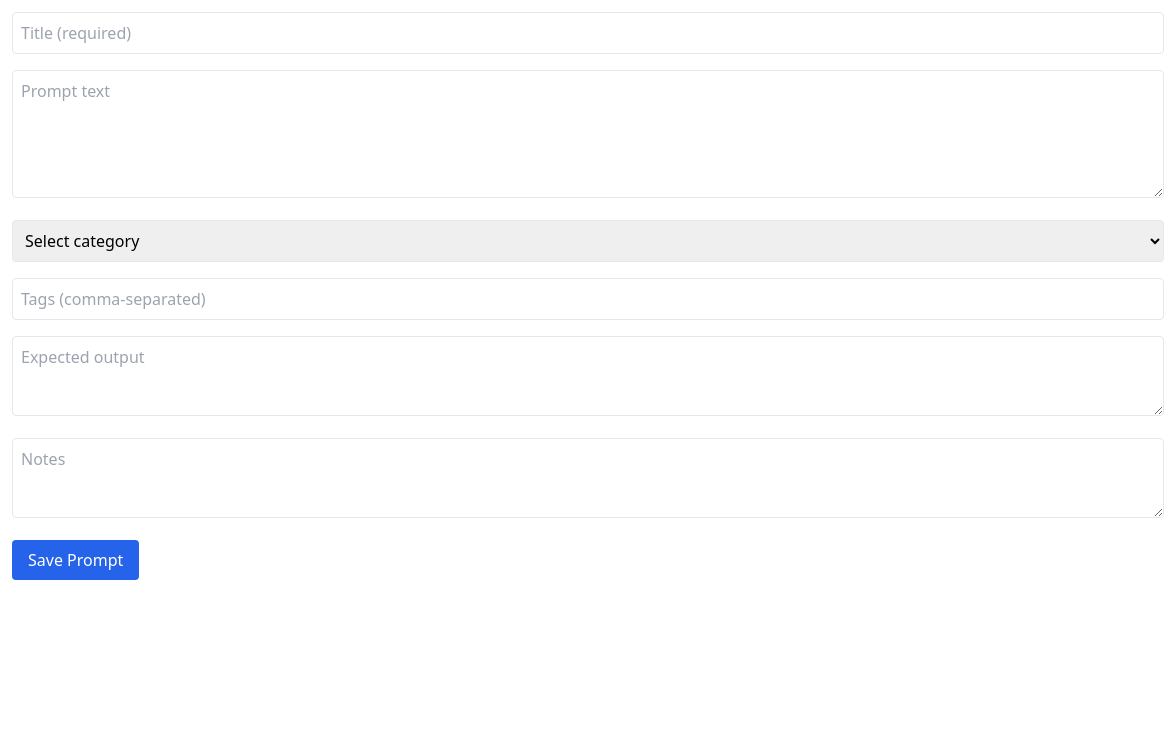
Test: PromptForm › validates title uniqueness
This screenshot has width=1176, height=732.
Type "Existing Title" into the field with test id "prompt-title-input".
click(588, 33); type("Existing Title")  # box left=12, top=12, right=1164, bottom=54
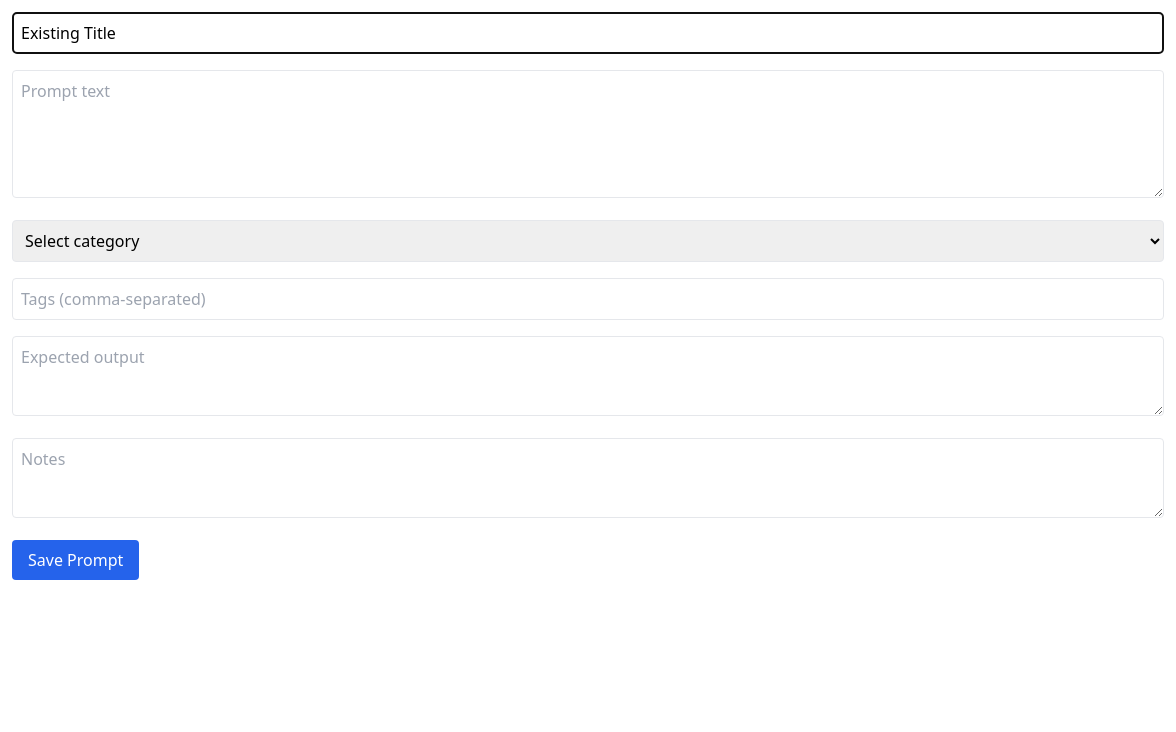
Click the button with test id "save-prompt-button".
click(76, 560)  # box left=12, top=540, right=139, bottom=580
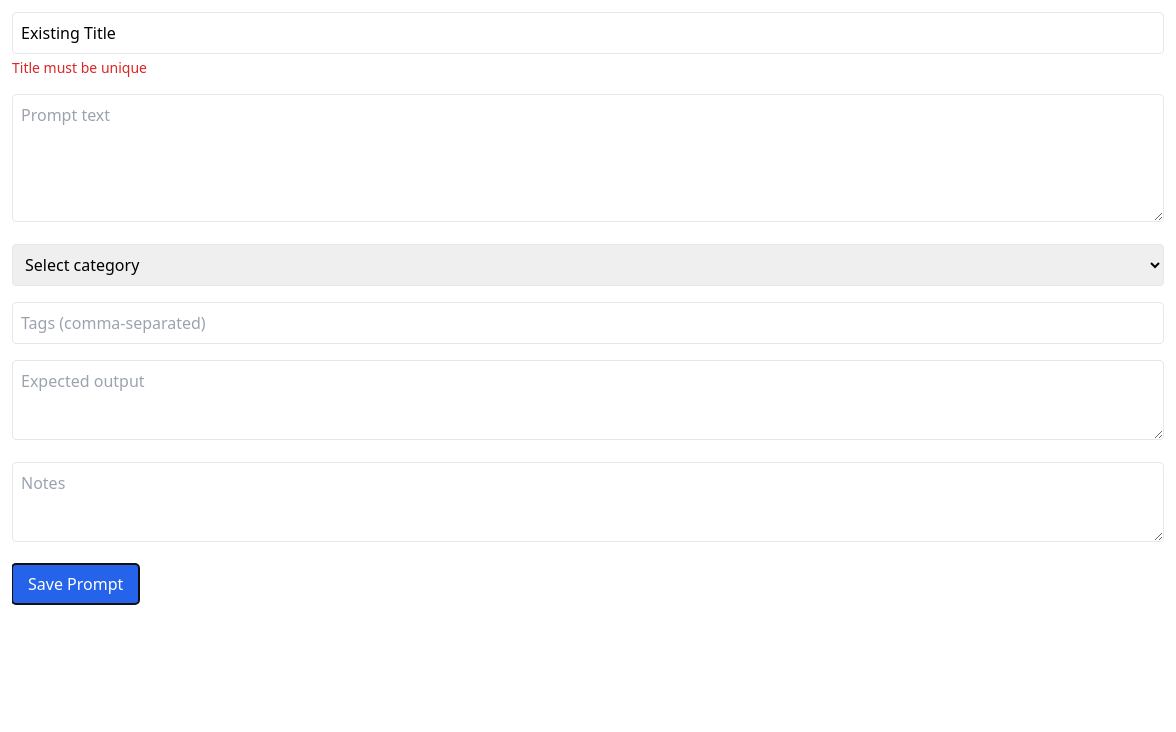
Check: the text "Title must be unique" is shown, box left=12, top=58, right=147, bottom=77
